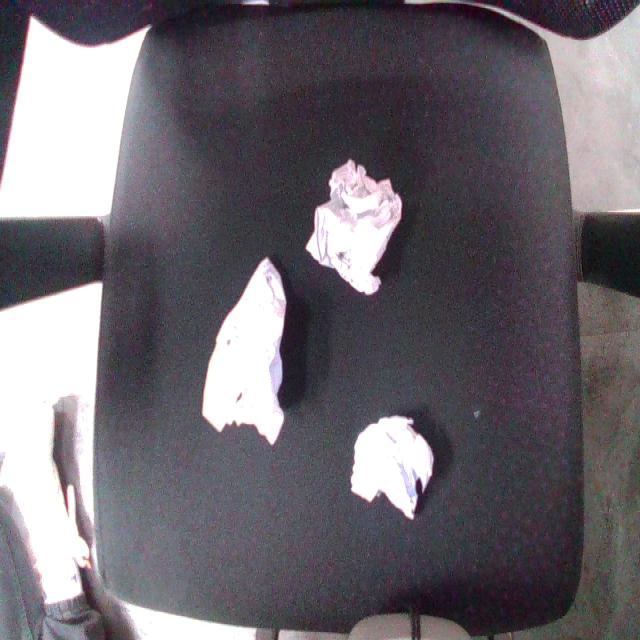paper: (280, 142, 439, 317), (180, 245, 297, 455), (342, 407, 449, 523)
